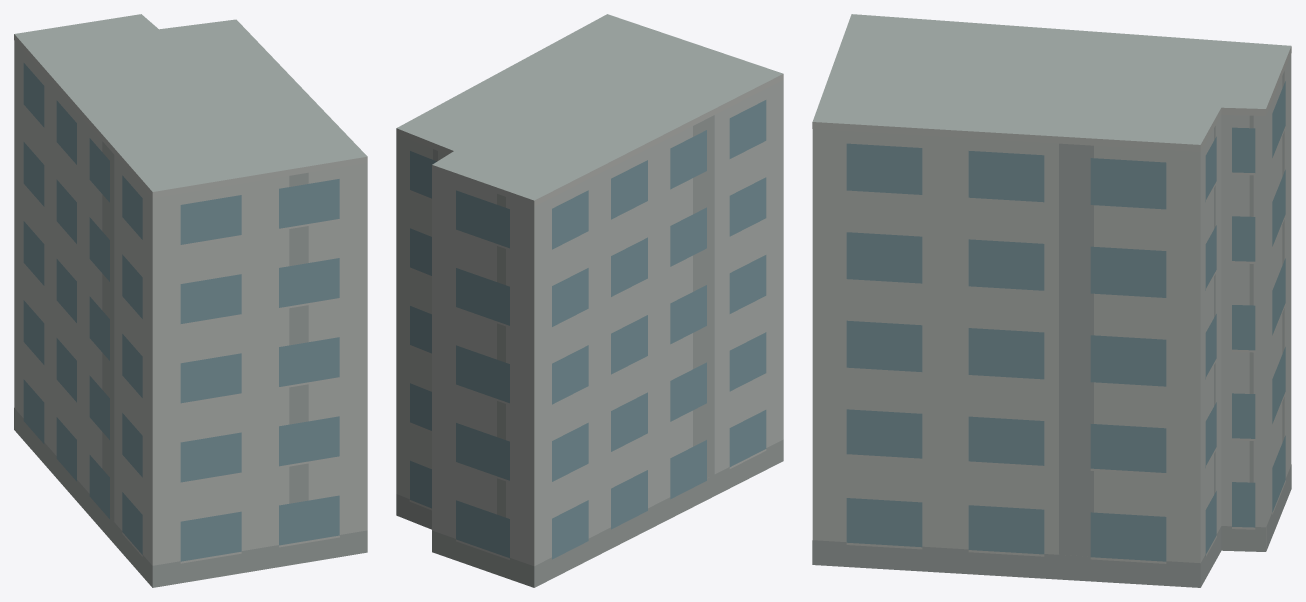
File: survey-upis-32702774.glb
The picture shows the model from 3 angles, left to right: view 1: azimuth 30°, elevation 25°; view 2: azimuth 150°, elevation 25°; view 3: azimuth 270°, elevation 25°; orthographic projection. The views are drawn at different scales.
Parts seen in each view (by area): view 1: survey-upis-32702774.tmp; view 2: survey-upis-32702774.tmp; view 3: survey-upis-32702774.tmp.
Boxes of the visible parts, x1,y1,x2,y2 form: survey-upis-32702774.tmp: (14,14,367,587); survey-upis-32702774.tmp: (396,14,783,587); survey-upis-32702774.tmp: (812,14,1291,587).
Bounding box in the file's own units: 9.67 × 15.25 × 14.96.
